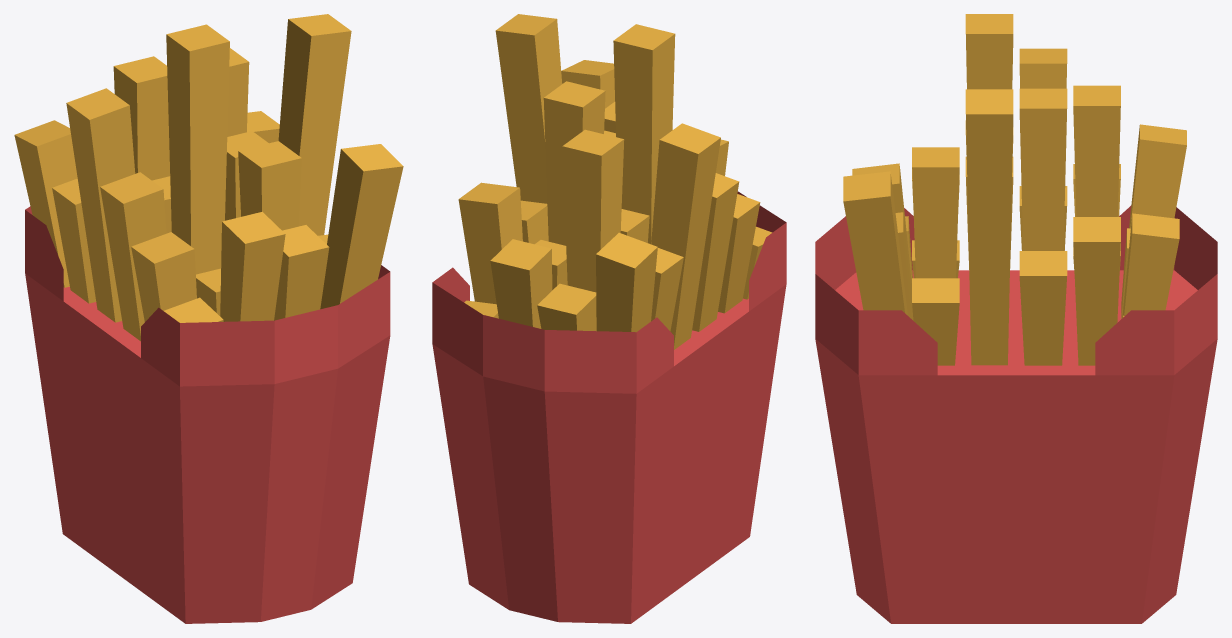
Rendered from fries.dae.
3 views of the same model, side by side, from view 1: azimuth 30°, elevation 25°; view 2: azimuth 150°, elevation 25°; view 3: azimuth 270°, elevation 25° (orthographic). The views are drawn at different scales.
Visible parts, largest first — view 1: fries (×2); view 2: fries (×2); view 3: fries (×2).
Boxes of the visible parts, x1,y1,x2,y2 form: fries (×2): (14,14,403,623); fries (×2): (432,14,786,623); fries (×2): (815,14,1217,623).
Bounding box in the file's own units: 0.183 × 0.3977 × 0.2653.
